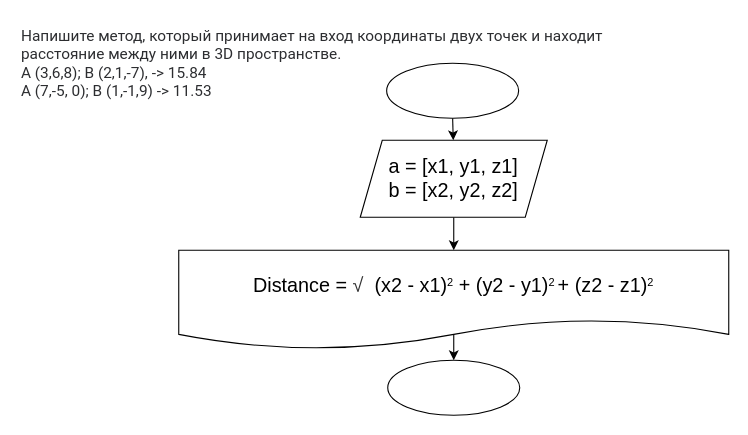
The diagram is 748 pixels wide and 435 high, and some of its shapes have lost their labels. The centre of each missing label's shape, as x and y in pixels:
End: the point at 453,387
Start: the point at 452,90
